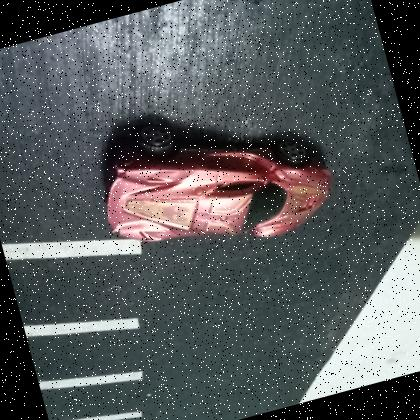Car: (106, 123, 329, 241)
